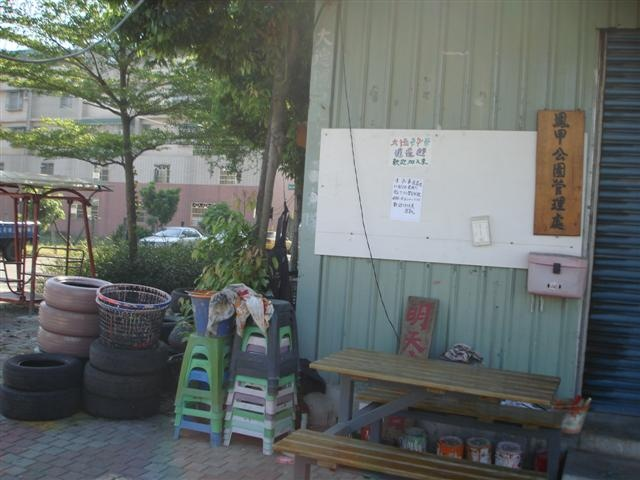bottle: (494, 441, 523, 468), (465, 437, 494, 464), (434, 435, 464, 459), (400, 428, 430, 452)
bucket: (185, 287, 236, 341)
tire: (3, 351, 85, 393), (89, 336, 170, 375), (1, 387, 81, 423), (42, 275, 114, 313), (37, 299, 102, 338)
